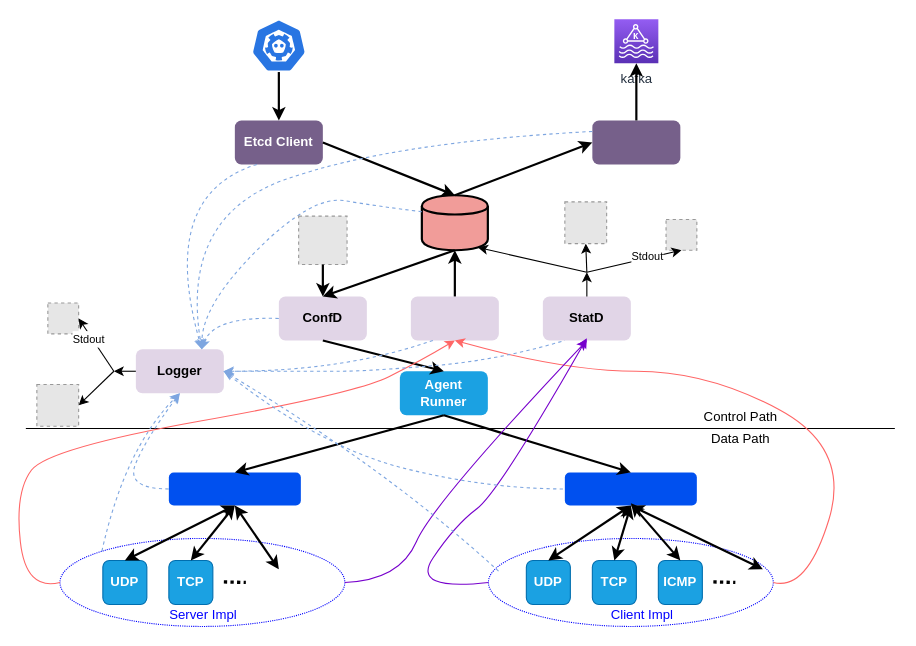
The diagram is 916 pixels wide and 646 high, and some of its shapes have lost their labels. Grey dashed boxes stand in for pictures. The box of each missing label's shape, as (x1, y1, x2, y2) in pixels:
Client Interface: (564, 472, 696, 505)
DataStore: (420, 194, 488, 251)
etcd: (250, 18, 306, 72)
Kafka Client: (592, 120, 680, 164)
MonitorD: (410, 296, 498, 340)
Server Interface: (168, 472, 300, 505)
